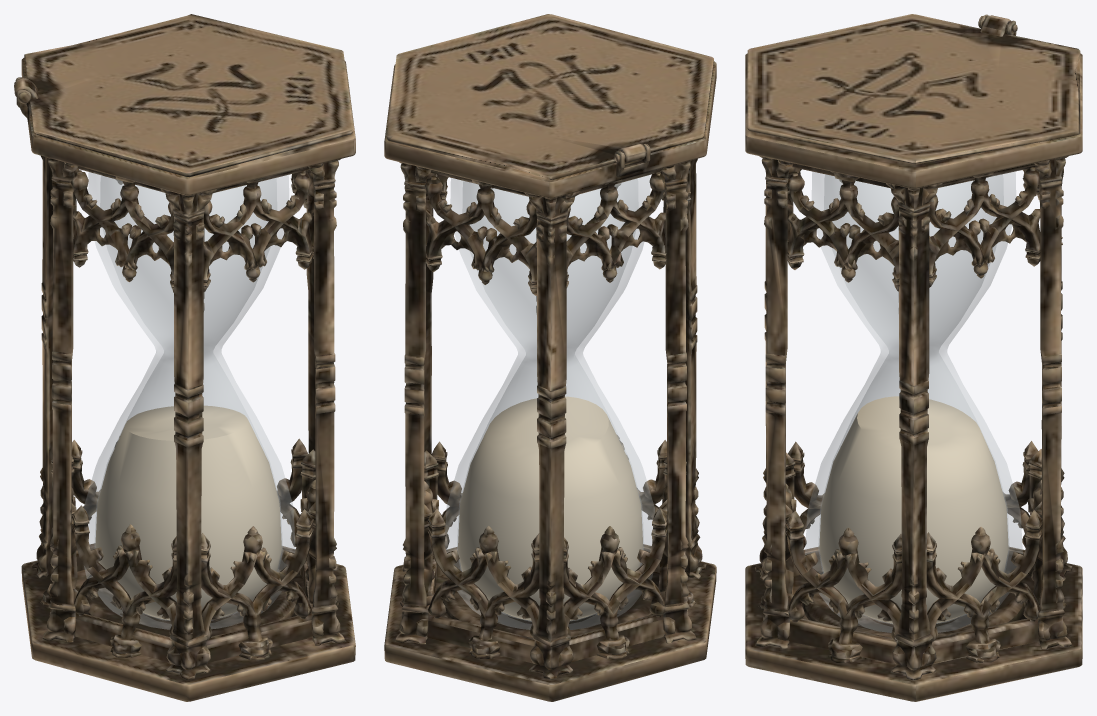
File: hourglass-adb80a216926.glb
3 renders of one model, left to right at view 1: azimuth 30°, elevation 25°; view 2: azimuth 150°, elevation 25°; view 3: azimuth 270°, elevation 25°, orthographic.
Visible parts, largest first — view 1: Object_4, Object_3, Object_2; view 2: Object_4, Object_3, Object_2; view 3: Object_4, Object_3, Object_2.
Boxes of the visible parts, x1,y1,x2,y2 form: Object_4: (14,14,355,701); Object_3: (84,172,295,629); Object_2: (95,405,281,620); Object_4: (384,14,716,701); Object_3: (445,175,654,629); Object_2: (458,396,642,620); Object_4: (745,14,1082,701); Object_3: (805,172,1022,632); Object_2: (819,396,1008,623).
Size of the model in its own units: 3.72 by 6.14 by 3.43.
3 materials, 1 textured.
